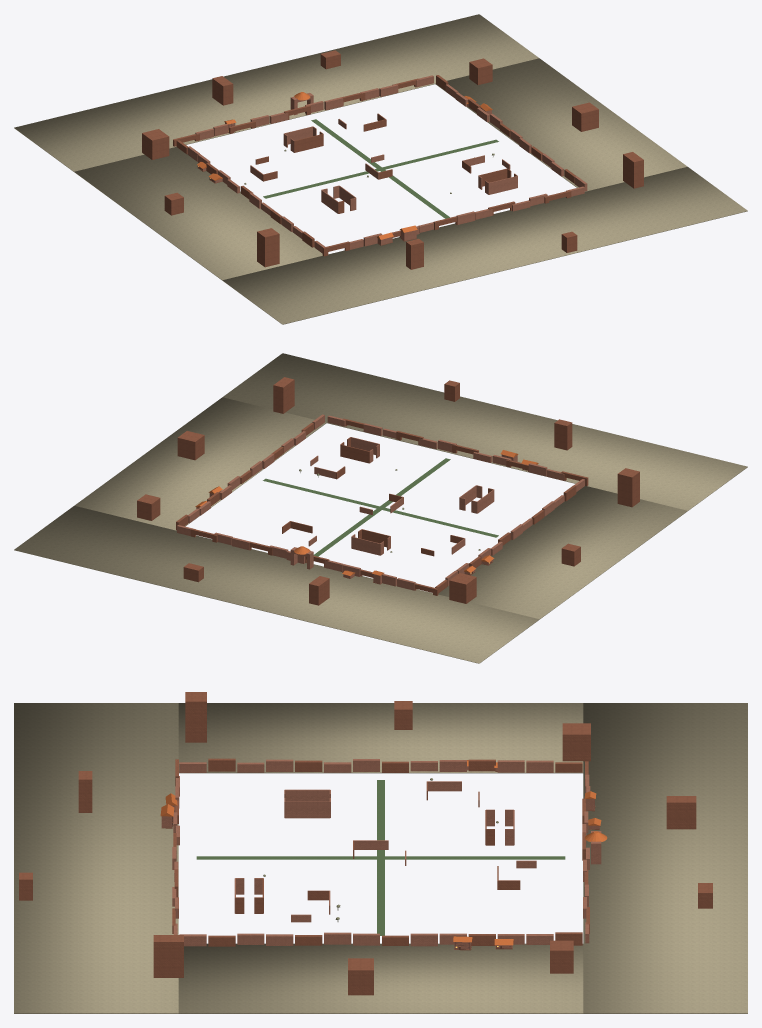
Rendered from nakaniwa-lod2.glb.
3 renders of one model, top to bottom at view 1: azimuth 30°, elevation 25°; view 2: azimuth 150°, elevation 25°; view 3: azimuth 270°, elevation 25°, orthographic. The views are drawn at different scales.
Visible parts, largest first — view 1: HB_nakaniwa_LOD2_terrain, HB_nakaniwa_LOD2_wall_alt, HB_nakaniwa_LOD2_wall, HB_nakaniwa_LOD2_road, HB_nakaniwa_LOD2_accent; view 2: HB_nakaniwa_LOD2_terrain, HB_nakaniwa_LOD2_wall_alt, HB_nakaniwa_LOD2_wall, HB_nakaniwa_LOD2_road, HB_nakaniwa_LOD2_accent; view 3: HB_nakaniwa_LOD2_terrain, HB_nakaniwa_LOD2_wall_alt, HB_nakaniwa_LOD2_wall, HB_nakaniwa_LOD2_road, HB_nakaniwa_LOD2_accent.
Boxes of the visible parts, left/top/right/bottom form: HB_nakaniwa_LOD2_terrain: left=14, top=14, right=747, bottom=324; HB_nakaniwa_LOD2_wall_alt: left=142, top=50, right=643, bottom=269; HB_nakaniwa_LOD2_wall: left=187, top=75, right=587, bottom=253; HB_nakaniwa_LOD2_road: left=263, top=119, right=498, bottom=218; HB_nakaniwa_LOD2_accent: left=197, top=92, right=492, bottom=239; HB_nakaniwa_LOD2_terrain: left=14, top=353, right=747, bottom=663; HB_nakaniwa_LOD2_wall_alt: left=137, top=377, right=639, bottom=605; HB_nakaniwa_LOD2_wall: left=177, top=414, right=584, bottom=590; HB_nakaniwa_LOD2_road: left=263, top=458, right=498, bottom=556; HB_nakaniwa_LOD2_accent: left=195, top=450, right=538, bottom=575; HB_nakaniwa_LOD2_terrain: left=14, top=703, right=747, bottom=1013; HB_nakaniwa_LOD2_wall_alt: left=19, top=692, right=712, bottom=995; HB_nakaniwa_LOD2_wall: left=161, top=759, right=601, bottom=949; HB_nakaniwa_LOD2_road: left=196, top=780, right=565, bottom=935; HB_nakaniwa_LOD2_accent: left=160, top=760, right=607, bottom=946.
Bounding box in the file's own units: 580 × 36.67 × 580.
Materials: 9 (7 with a texture image).
